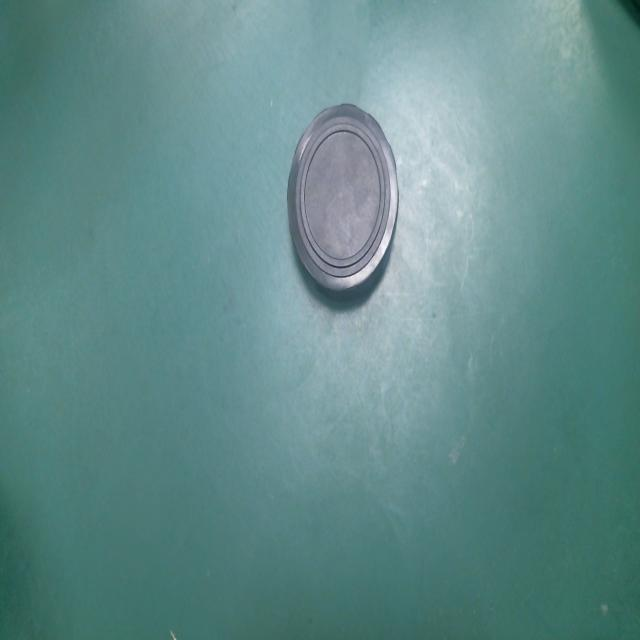cover: (279, 89, 410, 313)
